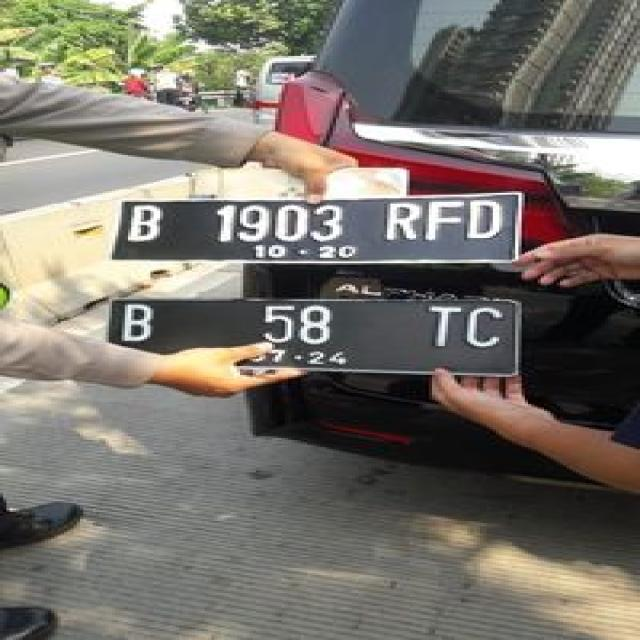lisence-plate: (85, 187, 532, 275), (90, 302, 524, 390)
